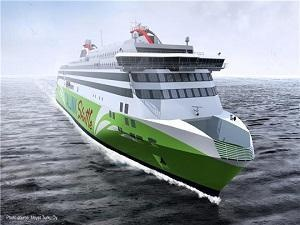youlun: (55, 26, 257, 192)
